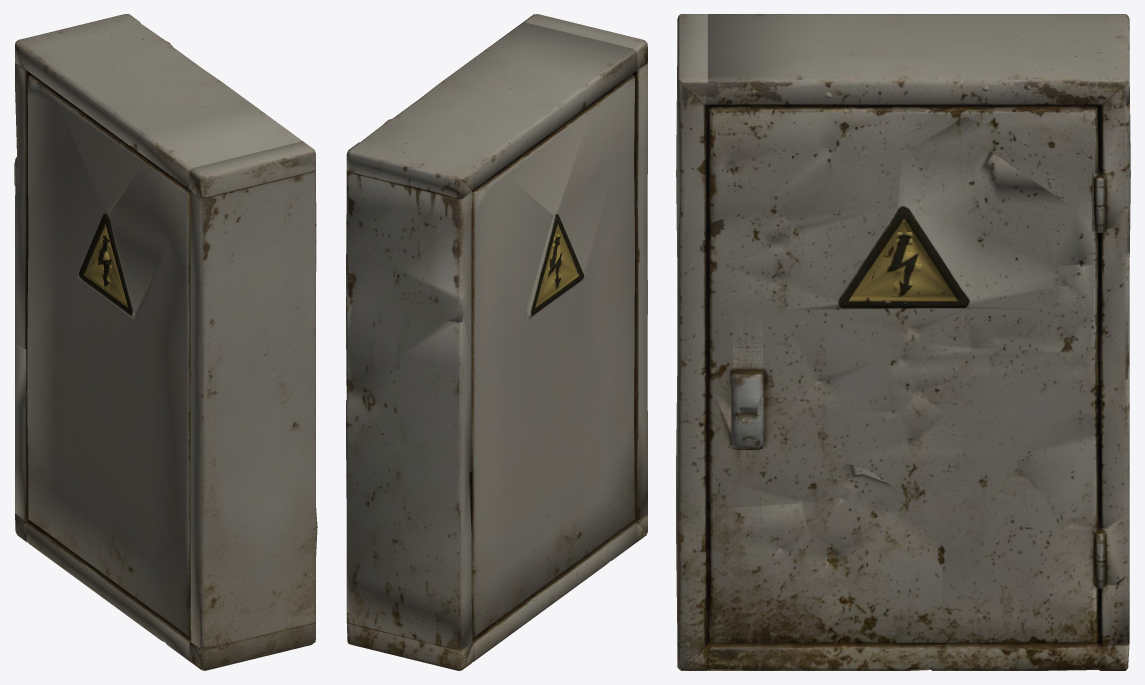
The model's file is elektrik_panosu.glb.
The picture shows the model from 3 angles, left to right: view 1: azimuth 30°, elevation 25°; view 2: azimuth 150°, elevation 25°; view 3: azimuth 270°, elevation 25°; orthographic projection. The views are drawn at different scales.
Parts seen in each view (by area): view 1: tripo_node_091af5ae-0721-4fea-b67d-930eada08254; view 2: tripo_node_091af5ae-0721-4fea-b67d-930eada08254; view 3: tripo_node_091af5ae-0721-4fea-b67d-930eada08254.
Boxes of the visible parts, left/top/right/bottom form: tripo_node_091af5ae-0721-4fea-b67d-930eada08254: left=14, top=14, right=317, bottom=670; tripo_node_091af5ae-0721-4fea-b67d-930eada08254: left=346, top=14, right=647, bottom=670; tripo_node_091af5ae-0721-4fea-b67d-930eada08254: left=676, top=14, right=1130, bottom=670.
Size of the model in its own units: 0.2784 by 0.981 by 0.6815.
1 material, 1 textured.
